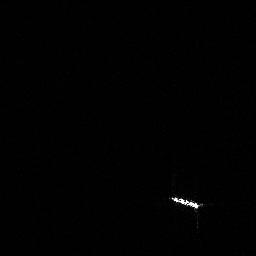ship: (167, 192, 203, 212)
